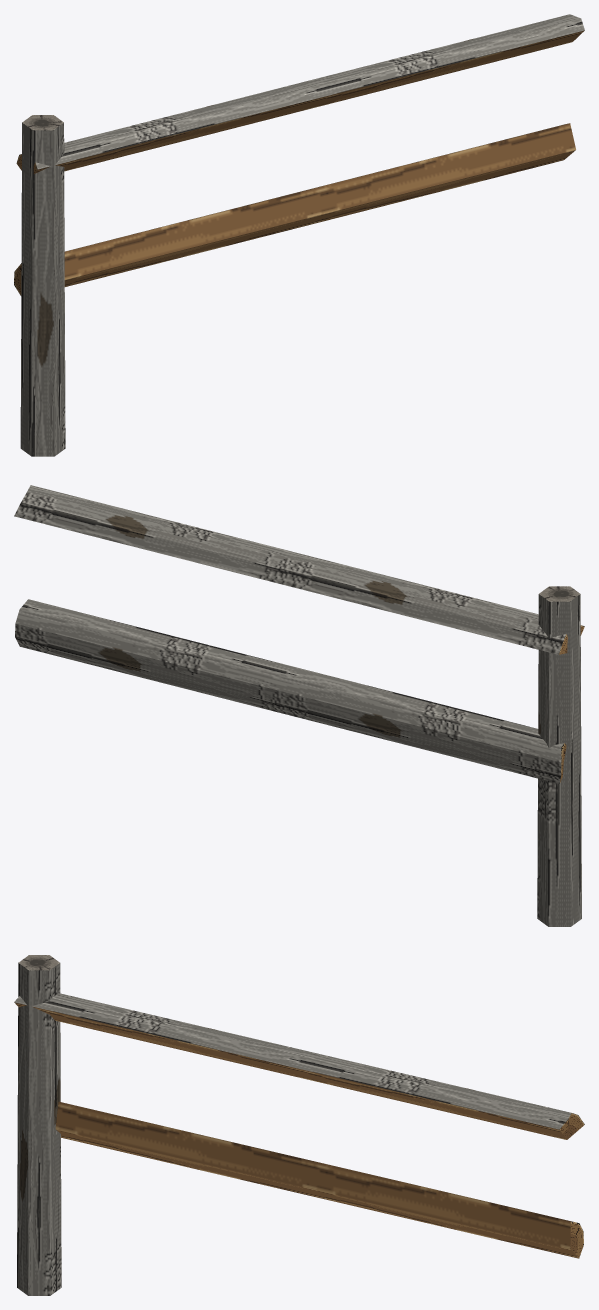
File: STRUCT_Fence_Straight_01.fbx
3 views of the same model, one above another, from view 1: azimuth 30°, elevation 25°; view 2: azimuth 150°, elevation 25°; view 3: azimuth 330°, elevation 25° (orthographic).
Parts seen in each view (by area): view 1: STRUCT_Fence_Straight_01; view 2: STRUCT_Fence_Straight_01; view 3: STRUCT_Fence_Straight_01.
Part boxes in pixels (box(x1,y1,x2,y2)): STRUCT_Fence_Straight_01: box(14, 14, 584, 456); STRUCT_Fence_Straight_01: box(14, 485, 584, 926); STRUCT_Fence_Straight_01: box(14, 955, 584, 1295).
Bounding box in the file's own units: 2.12 × 1.2 × 0.1676.
Materials: 4 (4 with a texture image).
